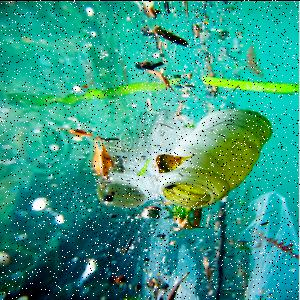Plastic-bottle: (159, 109, 275, 210)
